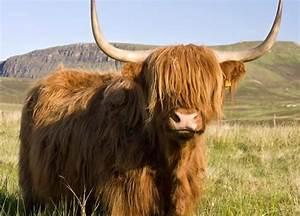cow: (17, 0, 283, 215)
